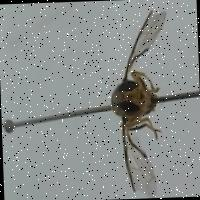Oriental-fruit-fly: (95, 0, 186, 199)
